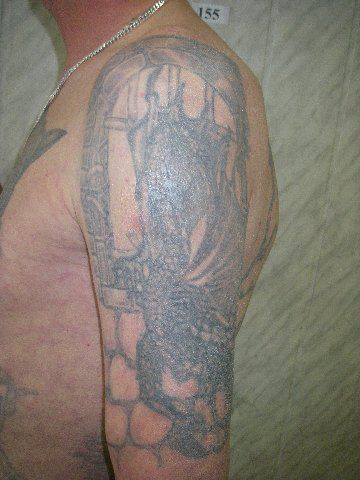tatu6_drakon: (74, 36, 269, 472)
